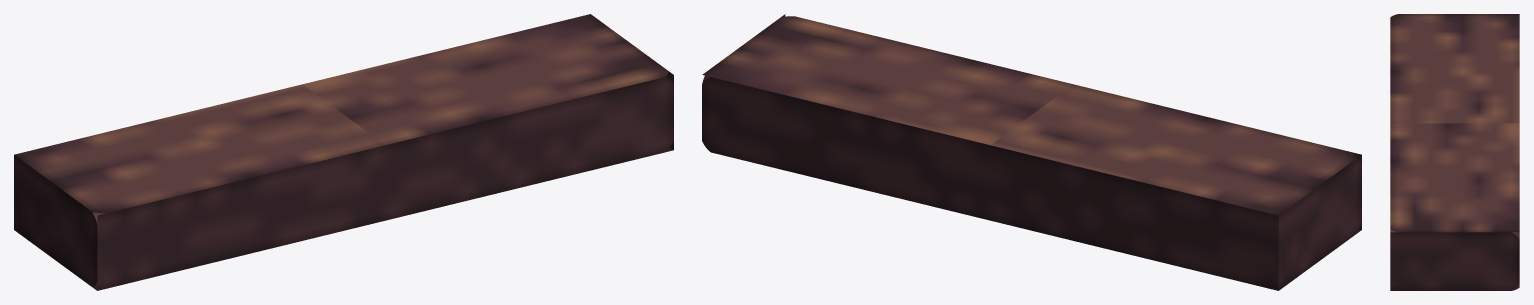
Rendered from Ceiling_1x1_Support.fbx.
The picture shows the model from 3 angles, left to right: view 1: azimuth 30°, elevation 25°; view 2: azimuth 150°, elevation 25°; view 3: azimuth 270°, elevation 25°; orthographic projection. The views are drawn at different scales.
Visible parts, largest first — view 1: Ceiling_1x1_Support; view 2: Ceiling_1x1_Support; view 3: Ceiling_1x1_Support.
Boxes of the visible parts, box(x1,y1,x2,y2) form: Ceiling_1x1_Support: box(14, 14, 673, 290); Ceiling_1x1_Support: box(702, 14, 1361, 290); Ceiling_1x1_Support: box(1390, 14, 1519, 290).
Bounding box in the file's own units: 200 × 25 × 50.
Materials: 1 (1 with a texture image).
